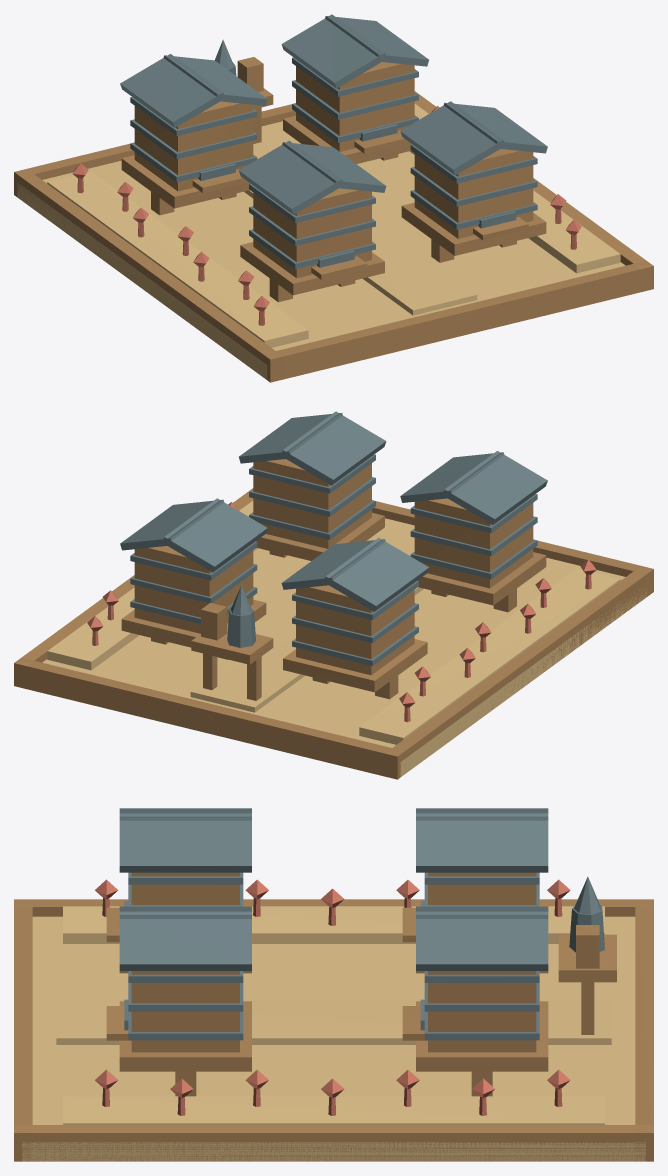
Rendered from Apiary-Field.glb.
3 renders of one model, top to bottom at view 1: azimuth 30°, elevation 25°; view 2: azimuth 150°, elevation 25°; view 3: azimuth 270°, elevation 25°, orthographic. The views are drawn at different scales.
Parts seen in each view (by area): view 1: apiary-field-static-apiary-honey-timber-mat, apiary-field-static-apiary-dark-soil-mat, apiary-field-static-apiary-galvanized-lid-mat, apiary-field-static-apiary-dark-iron-mat, apiary-field-static-apiary-service-path-mat, apiary-field-static-apiary-flower-strip-mat; view 2: apiary-field-static-apiary-honey-timber-mat, apiary-field-static-apiary-dark-soil-mat, apiary-field-static-apiary-galvanized-lid-mat, apiary-field-static-apiary-dark-iron-mat, apiary-field-static-apiary-service-path-mat, apiary-field-static-apiary-flower-strip-mat; view 3: apiary-field-static-apiary-dark-soil-mat, apiary-field-static-apiary-honey-timber-mat, apiary-field-static-apiary-galvanized-lid-mat, apiary-field-static-apiary-service-path-mat, apiary-field-static-apiary-dark-iron-mat, apiary-field-static-apiary-flower-strip-mat.
Part boxes in pixels (left/top/right/bottom): apiary-field-static-apiary-honey-timber-mat: left=14, top=57, right=653, bottom=382; apiary-field-static-apiary-dark-soil-mat: left=17, top=103, right=625, bottom=379; apiary-field-static-apiary-galvanized-lid-mat: left=120, top=14, right=547, bottom=214; apiary-field-static-apiary-dark-iron-mat: left=130, top=39, right=537, bottom=269; apiary-field-static-apiary-service-path-mat: left=244, top=137, right=477, bottom=315; apiary-field-static-apiary-flower-strip-mat: left=72, top=106, right=581, bottom=325; apiary-field-static-apiary-honey-timber-mat: left=14, top=459, right=653, bottom=779; apiary-field-static-apiary-dark-soil-mat: left=42, top=500, right=650, bottom=776; apiary-field-static-apiary-galvanized-lid-mat: left=120, top=411, right=547, bottom=611; apiary-field-static-apiary-dark-iron-mat: left=130, top=454, right=537, bottom=666; apiary-field-static-apiary-service-path-mat: left=190, top=529, right=423, bottom=712; apiary-field-static-apiary-flower-strip-mat: left=87, top=502, right=596, bottom=722; apiary-field-static-apiary-dark-soil-mat: left=22, top=906, right=645, bottom=1161; apiary-field-static-apiary-honey-timber-mat: left=14, top=872, right=653, bottom=1161; apiary-field-static-apiary-galvanized-lid-mat: left=119, top=808, right=548, bottom=970; apiary-field-static-apiary-service-path-mat: left=56, top=999, right=611, bottom=1044; apiary-field-static-apiary-dark-iron-mat: left=124, top=872, right=604, bottom=1040; apiary-field-static-apiary-flower-strip-mat: left=95, top=879, right=570, bottom=1115.
Bounding box in the file's own units: 4.18 × 1.5 × 4.84.
